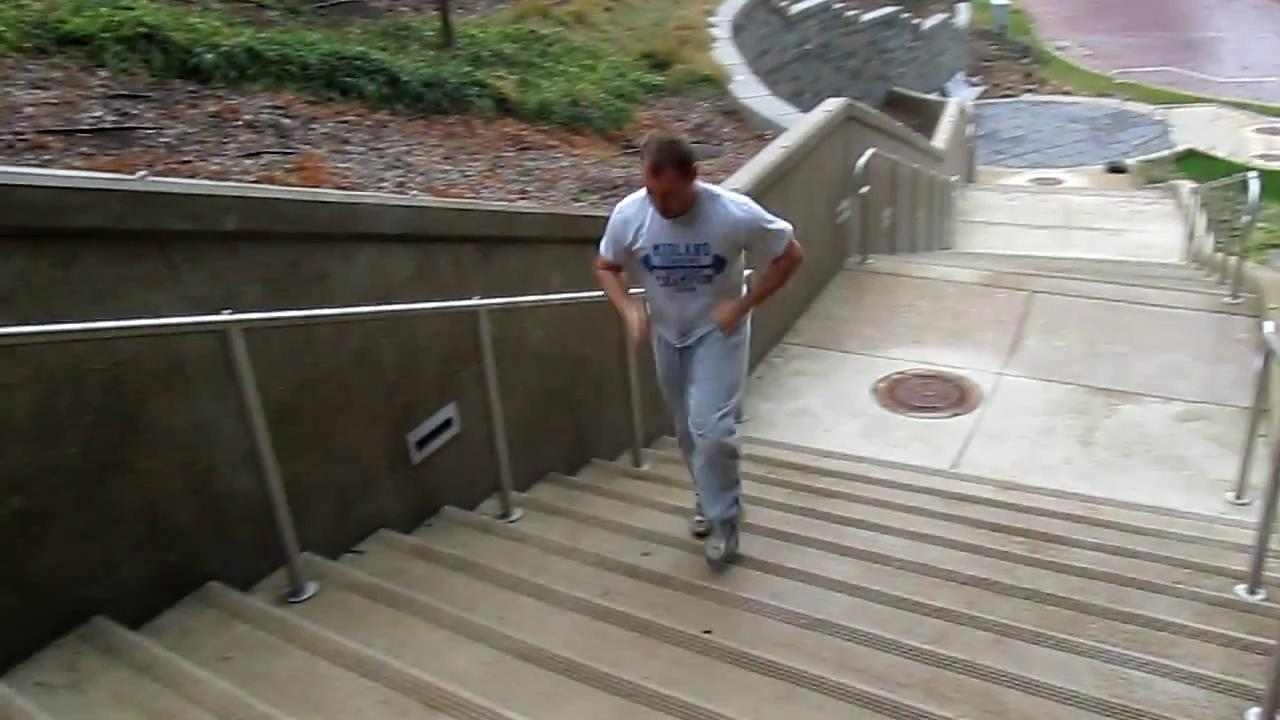victim: (586, 124, 810, 578)
